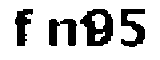5: (118, 7, 154, 52)
9: (84, 7, 115, 51)
f: (13, 5, 36, 50)
m: (43, 15, 97, 49)
